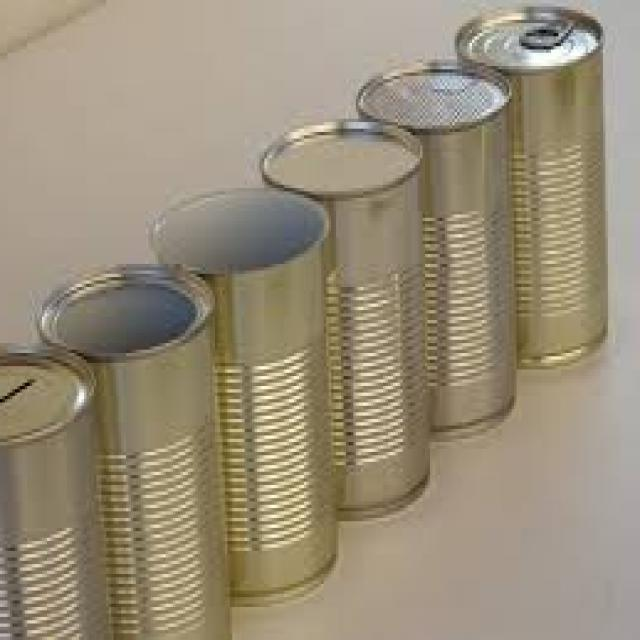metal: (146, 183, 338, 605), (37, 261, 237, 640), (256, 114, 432, 524), (356, 56, 516, 446), (455, 3, 612, 370), (0, 338, 117, 640)
